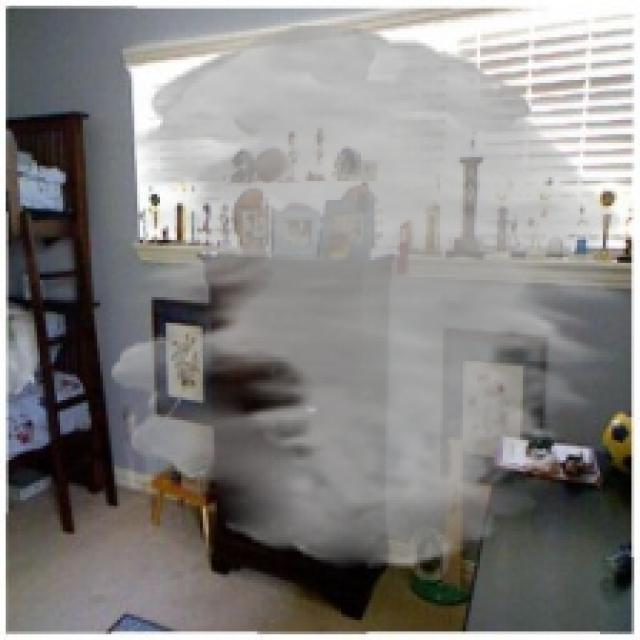Smoke: (111, 26, 626, 568)
